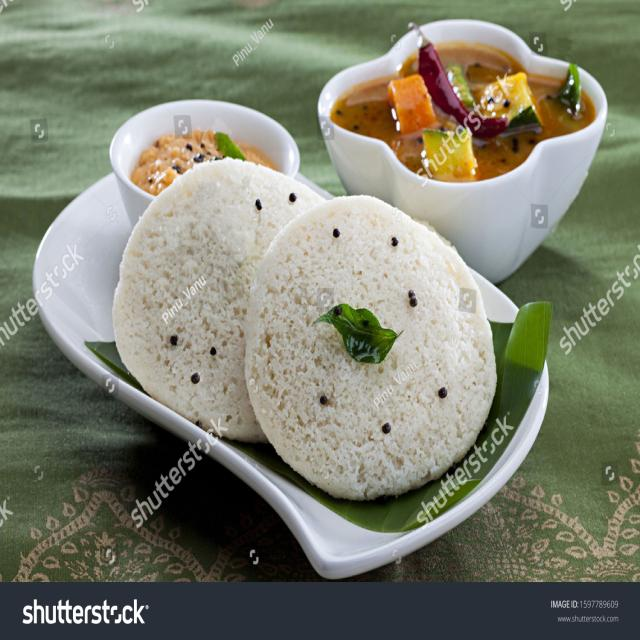IDLI: (243, 189, 495, 498), (117, 160, 313, 441)
